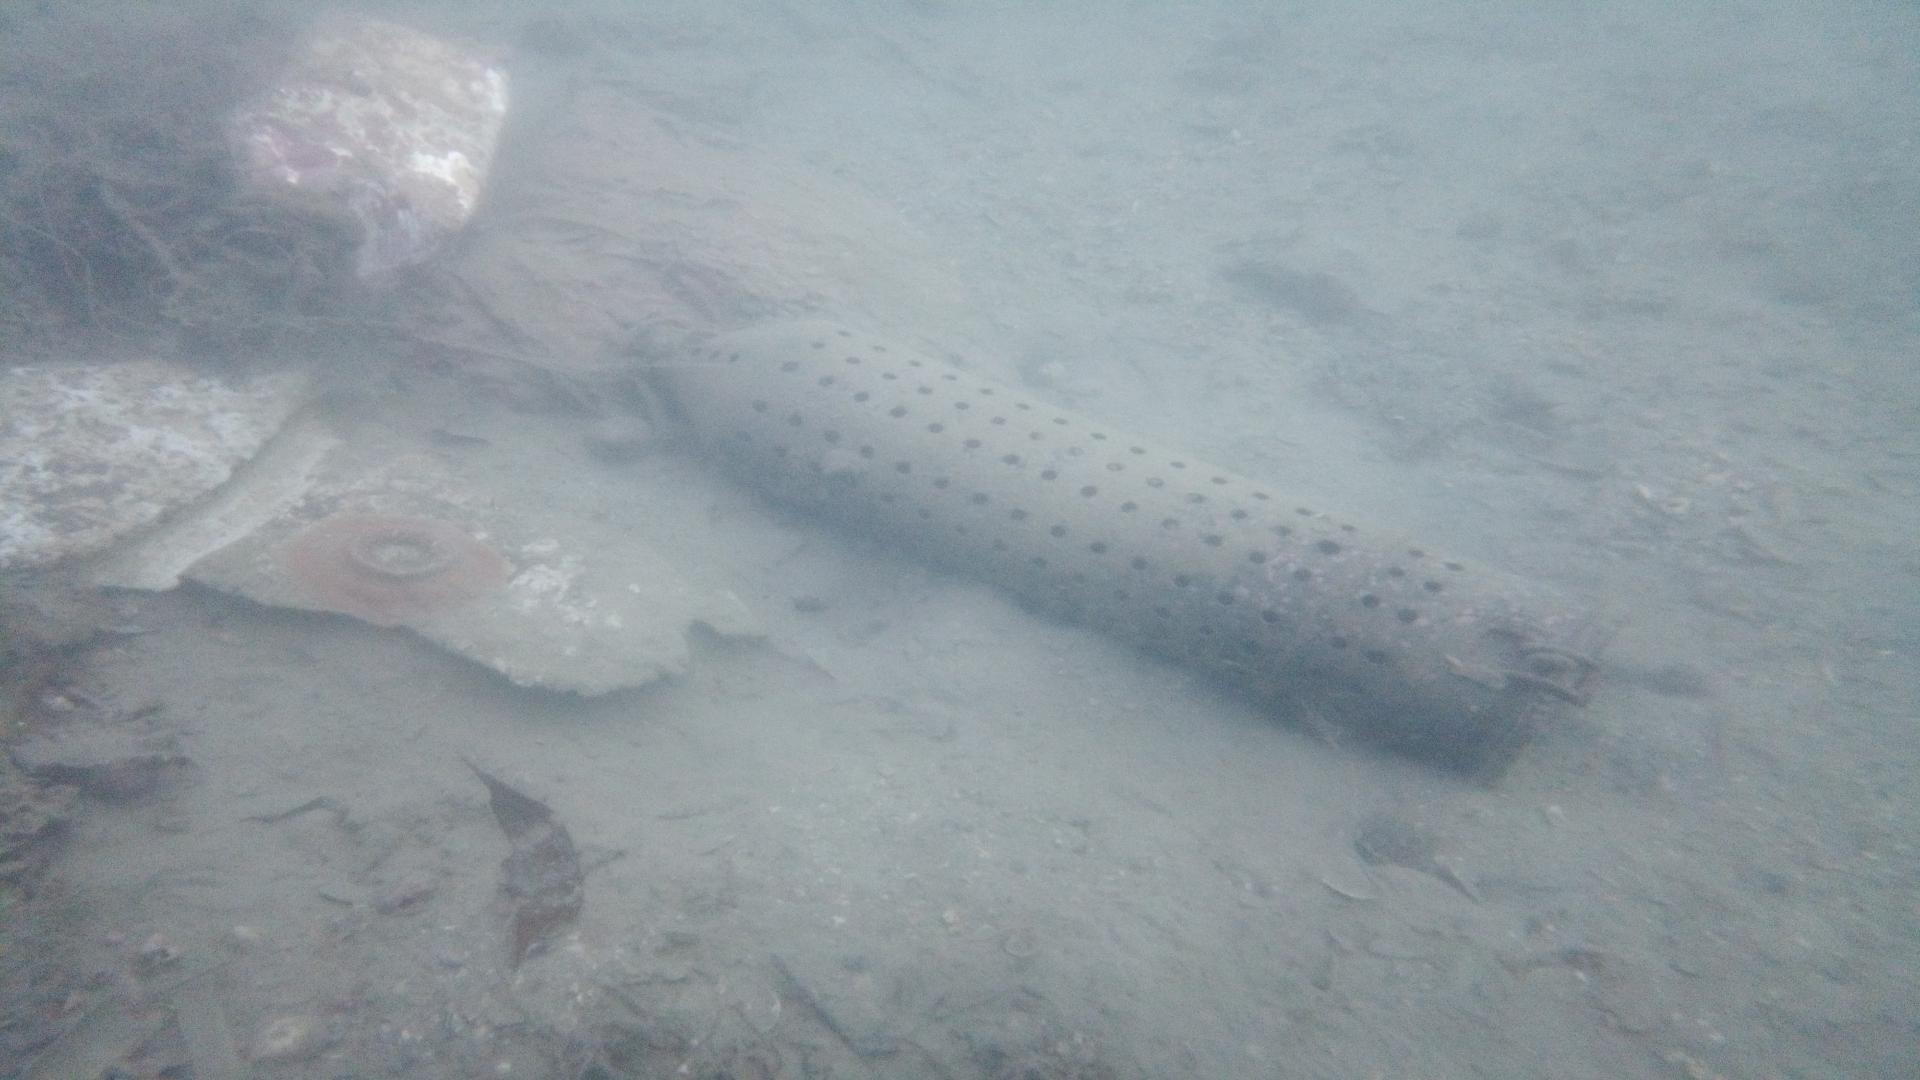eel fish trap: (655, 302, 1605, 787)
